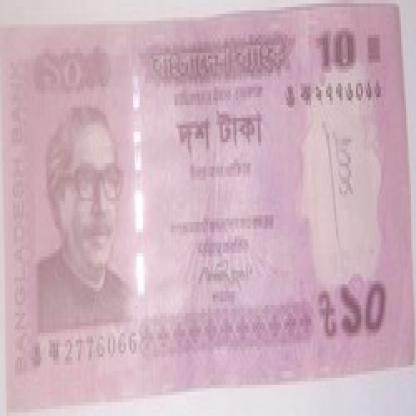Ten Taka: (338, 274, 389, 340), (313, 21, 358, 76), (40, 49, 85, 97)
